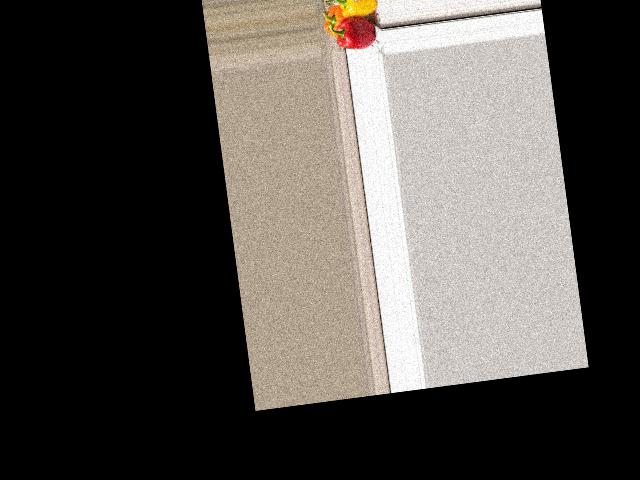bell_pepper: (321, 3, 348, 38)
